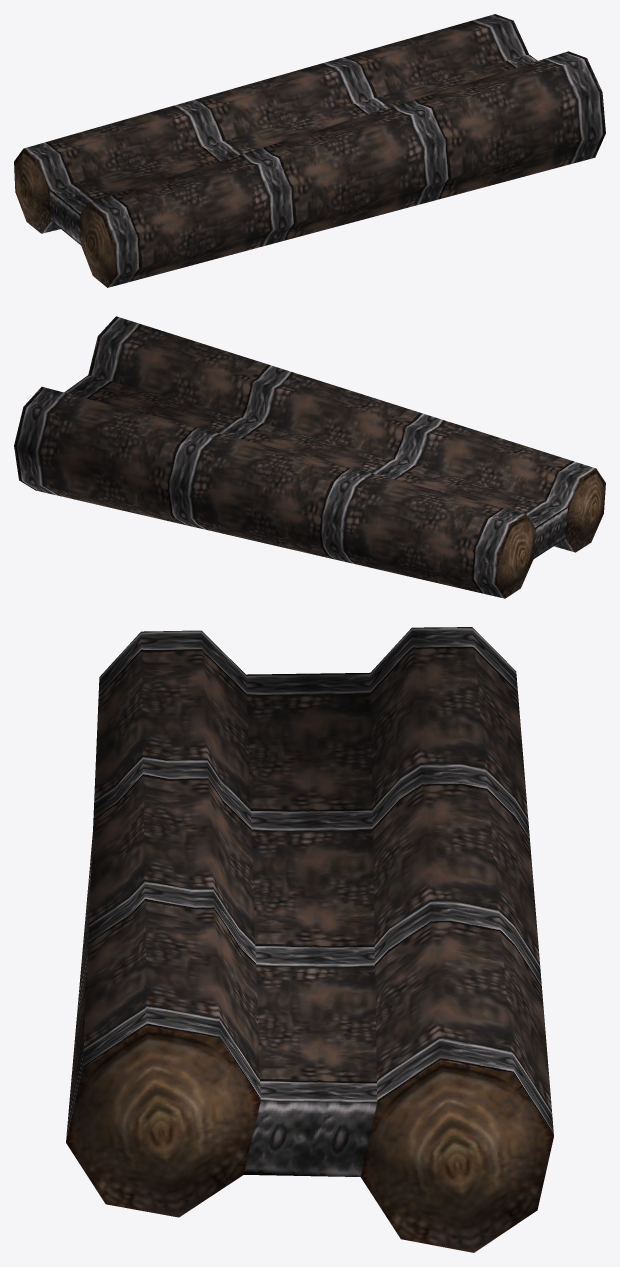
Rendered from ballistaframe01.obj.
3 views of the same model, one above another, from view 1: azimuth 30°, elevation 25°; view 2: azimuth 150°, elevation 25°; view 3: azimuth 270°, elevation 25° (orthographic). The views are drawn at different scales.
Parts seen in each view (by area): view 1: Geoset1, Geoset0; view 2: Geoset1, Geoset0; view 3: Geoset1, Geoset0.
Boxes of the visible parts, bbox=[...] form: Geoset1: bbox=[24, 14, 605, 287]; Geoset0: bbox=[14, 148, 116, 287]; Geoset1: bbox=[14, 316, 595, 598]; Geoset0: bbox=[495, 468, 605, 598]; Geoset1: bbox=[66, 627, 553, 1176]; Geoset0: bbox=[66, 1026, 553, 1252].
Bounding box in the file's own units: 10.49 × 2.29 × 4.43.
Materials: 2 (2 with a texture image).
